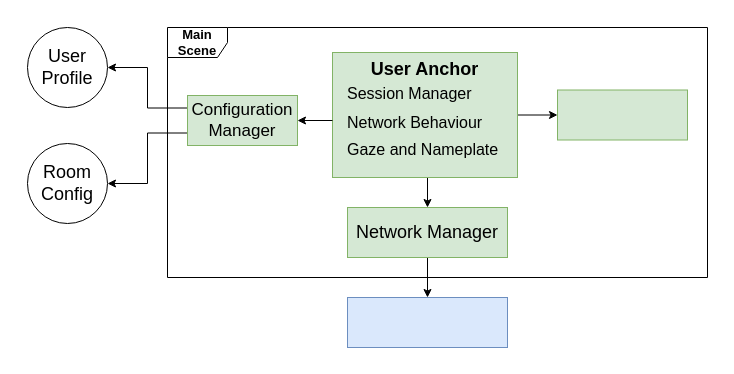
This 734x374 diagram has some shape labels left out. The shapes that lost their labels are listed below. From the top down, each one's centre as x and y in pixels, then its label:
At pixel 622 114: "Menu Manager".
At pixel 427 322: "Lightship Netcode Transport".
